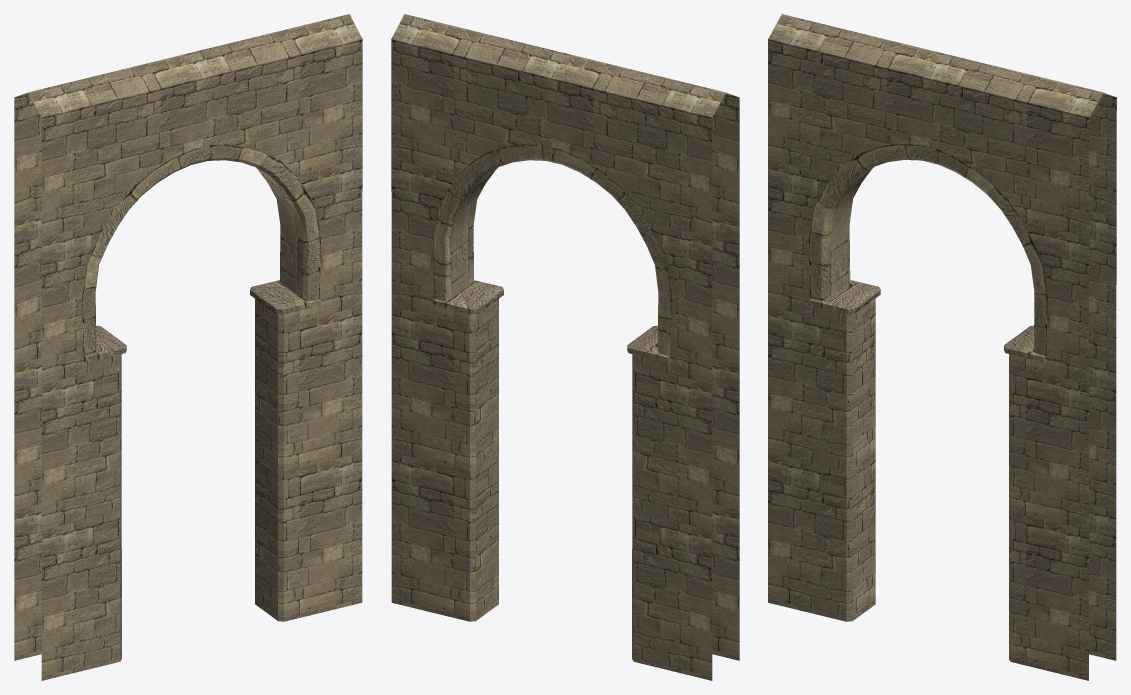
File: Arc_A.FBX
3 renders of one model, left to right at view 1: azimuth 30°, elevation 25°; view 2: azimuth 150°, elevation 25°; view 3: azimuth 330°, elevation 25°, orthographic.
Parts seen in each view (by area): view 1: Arc_A; view 2: Arc_A; view 3: Arc_A.
Boxes of the visible parts, x1,y1,x2,y2 form: Arc_A: (14,14,362,680); Arc_A: (391,14,739,680); Arc_A: (768,14,1116,680).
Bounding box in the file's own units: 601 × 1033 × 101.
